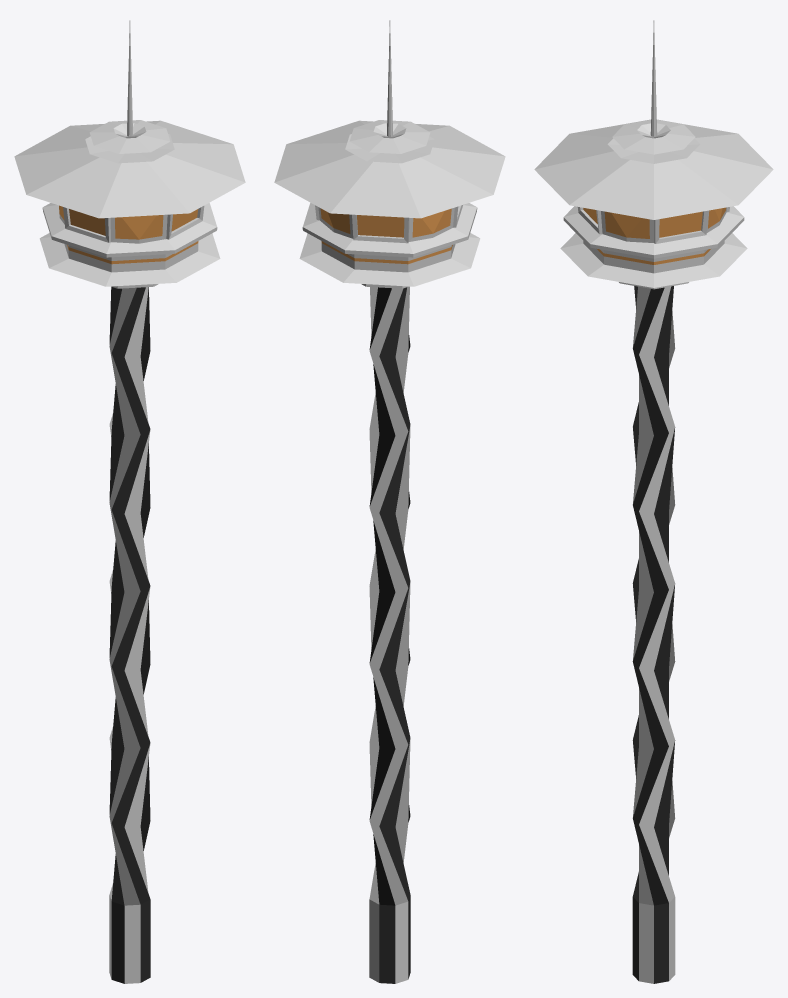
File: Lightfire Main_ver2.fbx
3 views of the same model, side by side, from view 1: azimuth 30°, elevation 25°; view 2: azimuth 150°, elevation 25°; view 3: azimuth 270°, elevation 25° (orthographic).
Parts seen in each view (by area): view 1: Lightfire Top; view 2: Lightfire Top; view 3: Lightfire Top.
Boxes of the visible parts, <box> form: Lightfire Top: <box>14,20,245,983</box>; Lightfire Top: <box>274,20,505,983</box>; Lightfire Top: <box>534,20,773,983</box>.
Size of the model in its own units: 1046 by 4632 by 1046.
